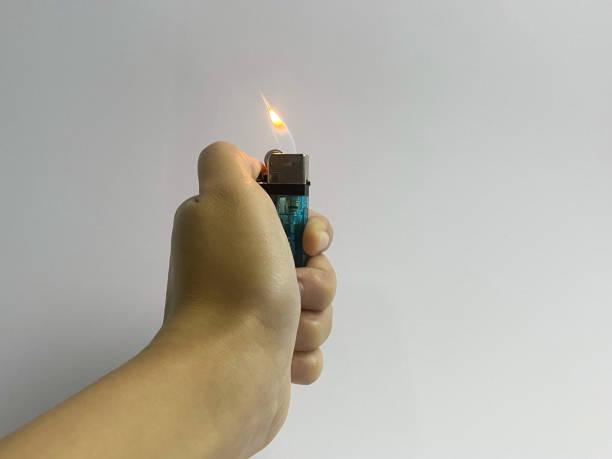Fire: (260, 99, 297, 144)
